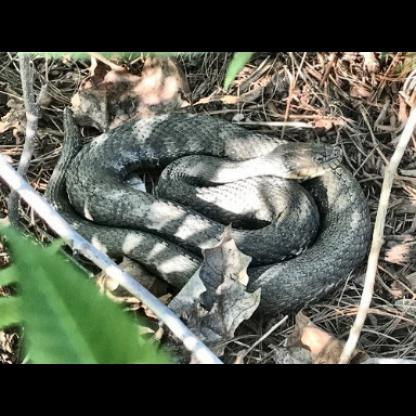Snake: (16, 78, 415, 328)
